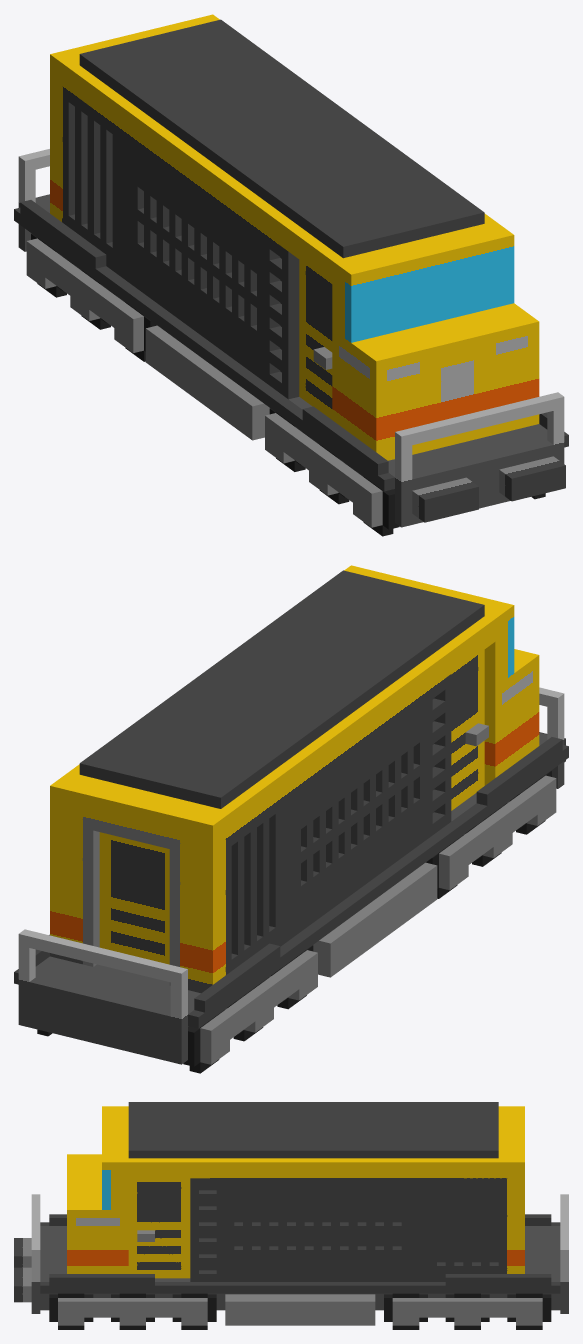
File: veh_train2.dae
3 renders of one model, top to bottom at view 1: azimuth 30°, elevation 25°; view 2: azimuth 150°, elevation 25°; view 3: azimuth 270°, elevation 25°, orthographic. The views are drawn at different scales.
Visible parts, largest first — view 1: veh_train2; view 2: veh_train2; view 3: veh_train2.
Boxes of the visible parts, x1,y1,x2,y2 form: veh_train2: [14, 14, 568, 536]; veh_train2: [14, 565, 568, 1073]; veh_train2: [14, 1102, 568, 1329].
Size of the model in its own units: 1.7 by 6.3 by 2.2.
Materials: 1 (1 with a texture image).
